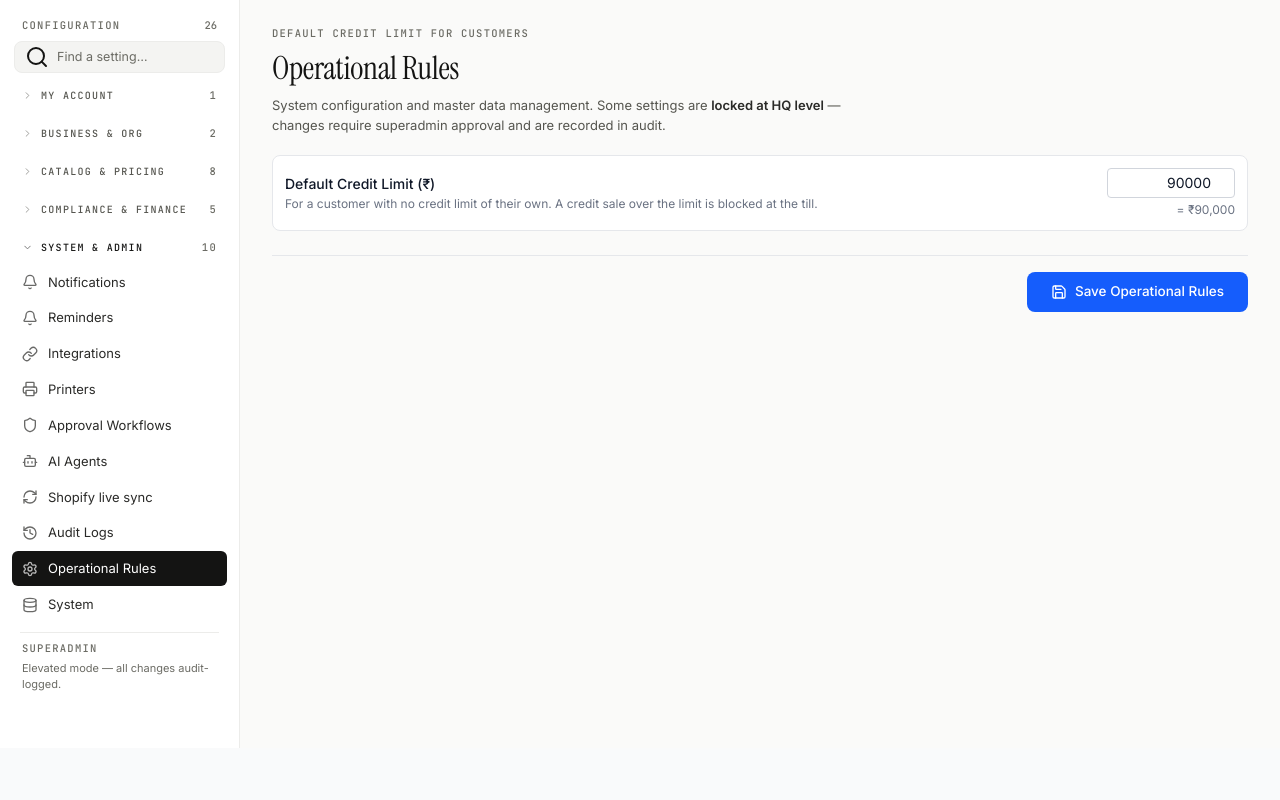
Test case: unsaved edits are guarded › an edit made while a save is in flight stays dirty
The image size is (1280, 800).
Step 1. Replace the text in the number field showing "90000" with "95000" → [1171, 183], box [1107,168,1235,198]
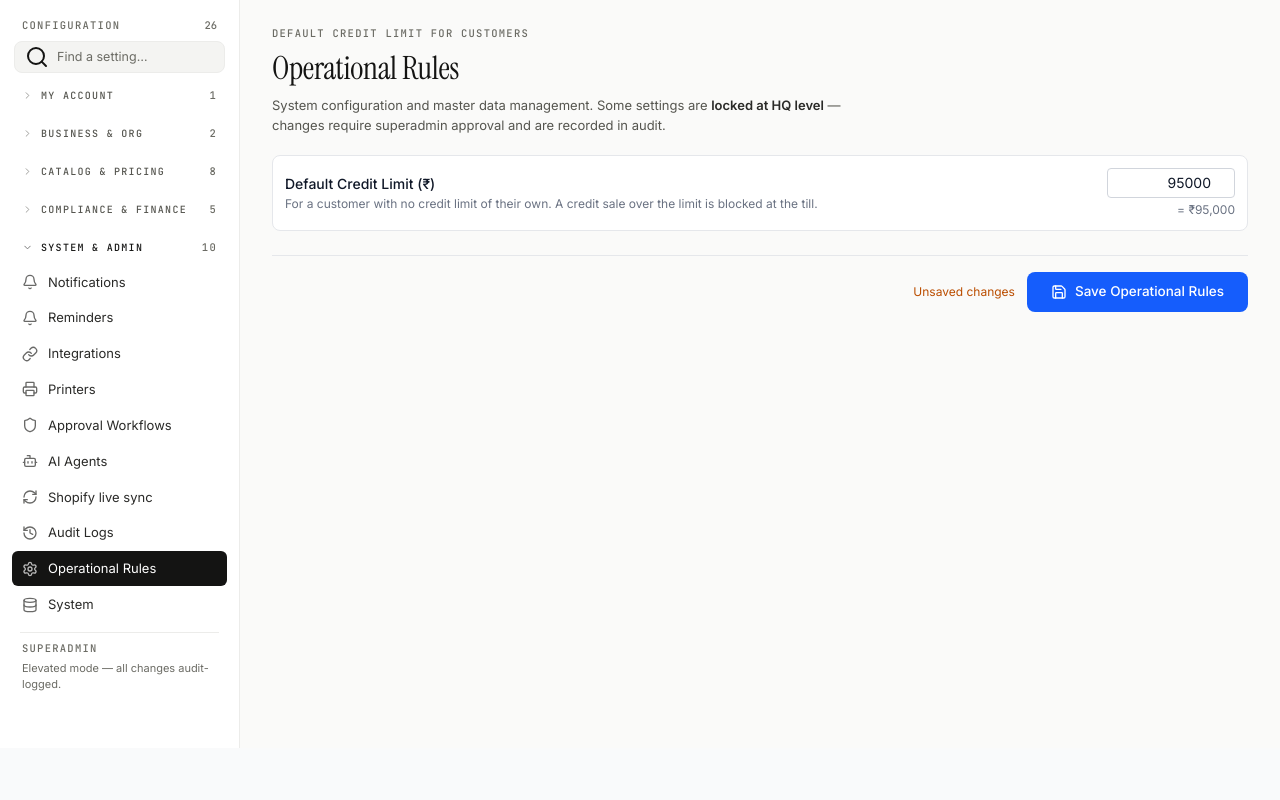
Step 2. Click the button "Save Operational Rules" → [1137, 292], box [1027,272,1248,312]
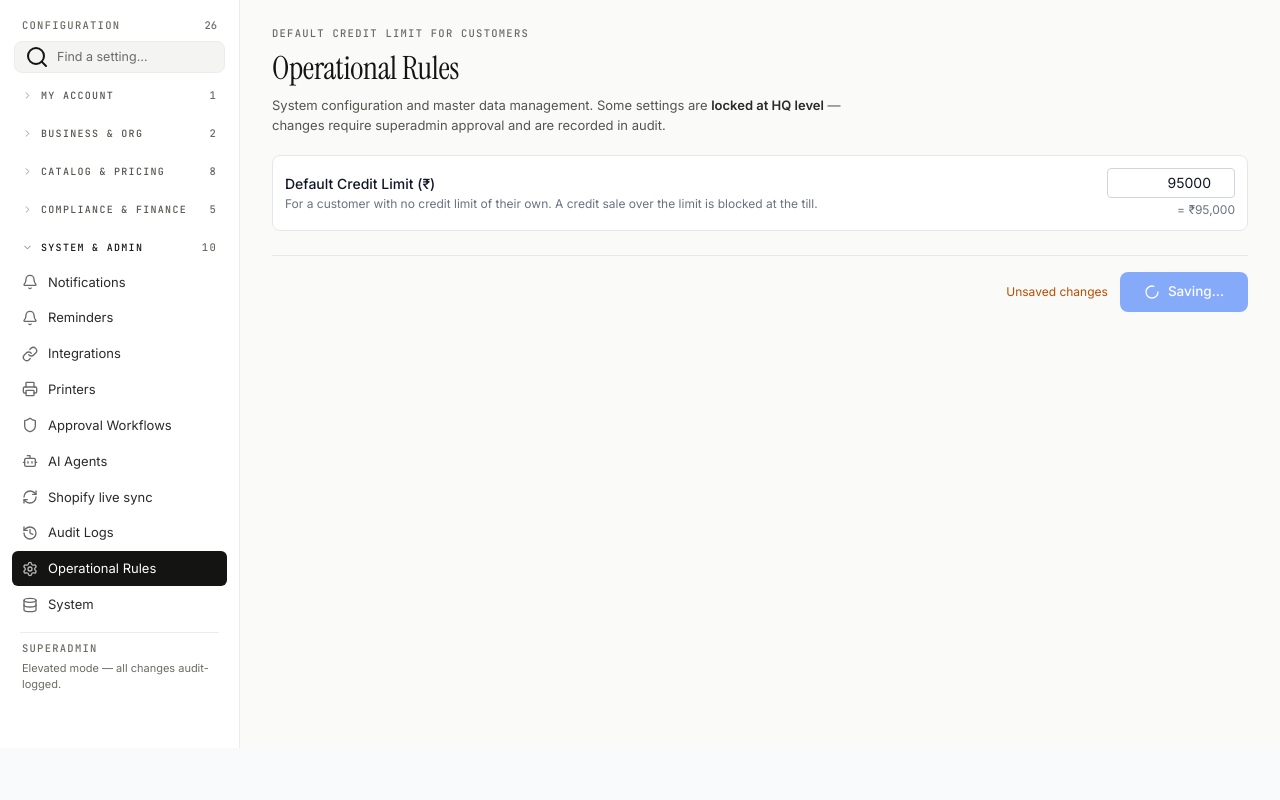
Step 3. Replace the text in the number field showing "95000" with "96000" → [1171, 183], box [1107,168,1235,198]
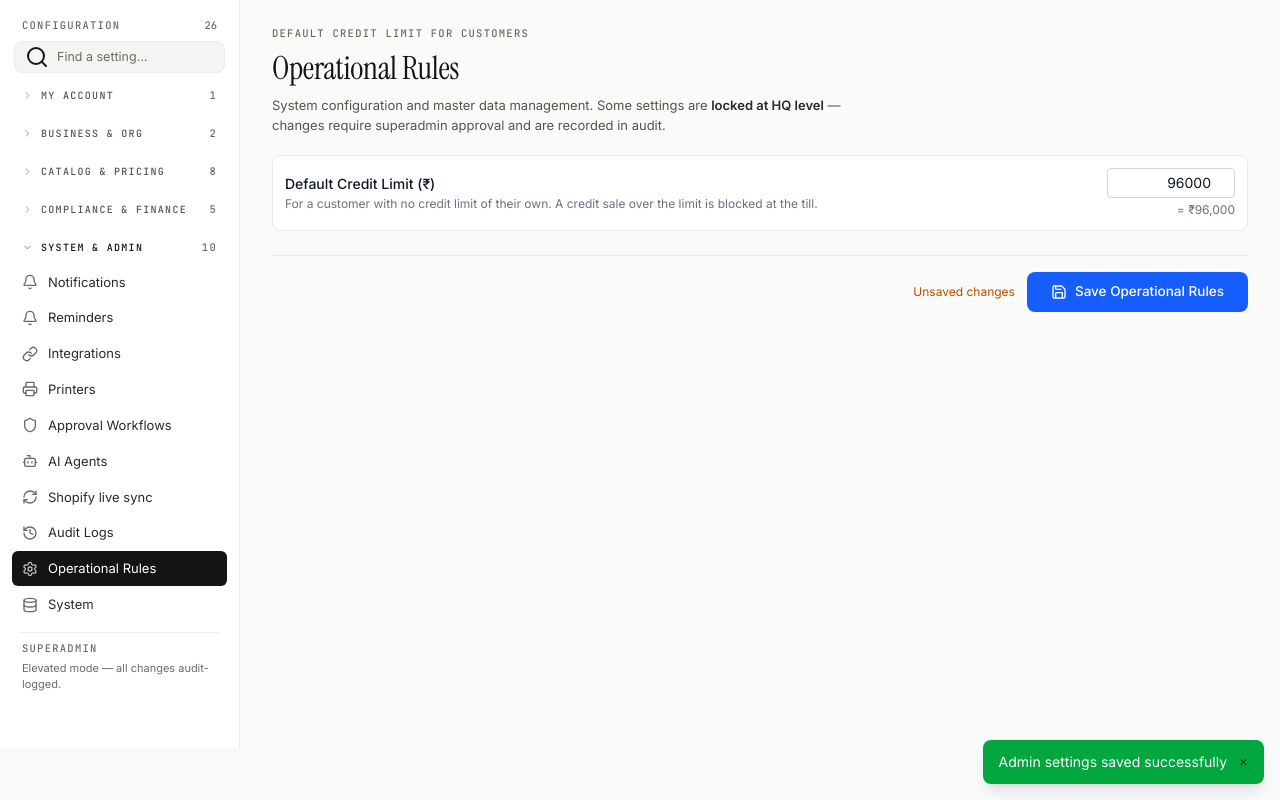
Now the text "Unsaved changes" is shown, box [913,284,1015,300]
Now the button "Save Operational Rules" is enabled, box [1027,272,1248,312]
